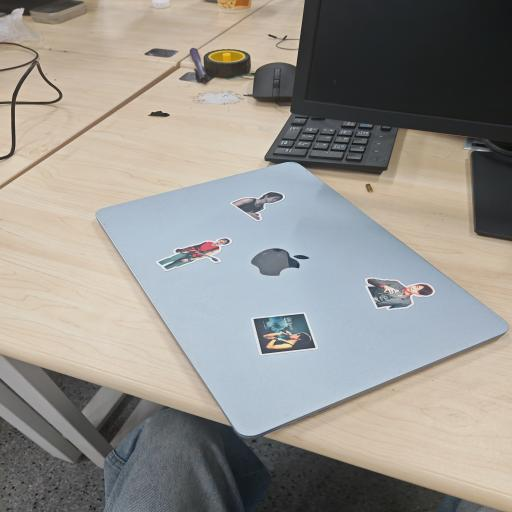laptop: (96, 162, 508, 438)
mouse: (252, 62, 296, 102)
